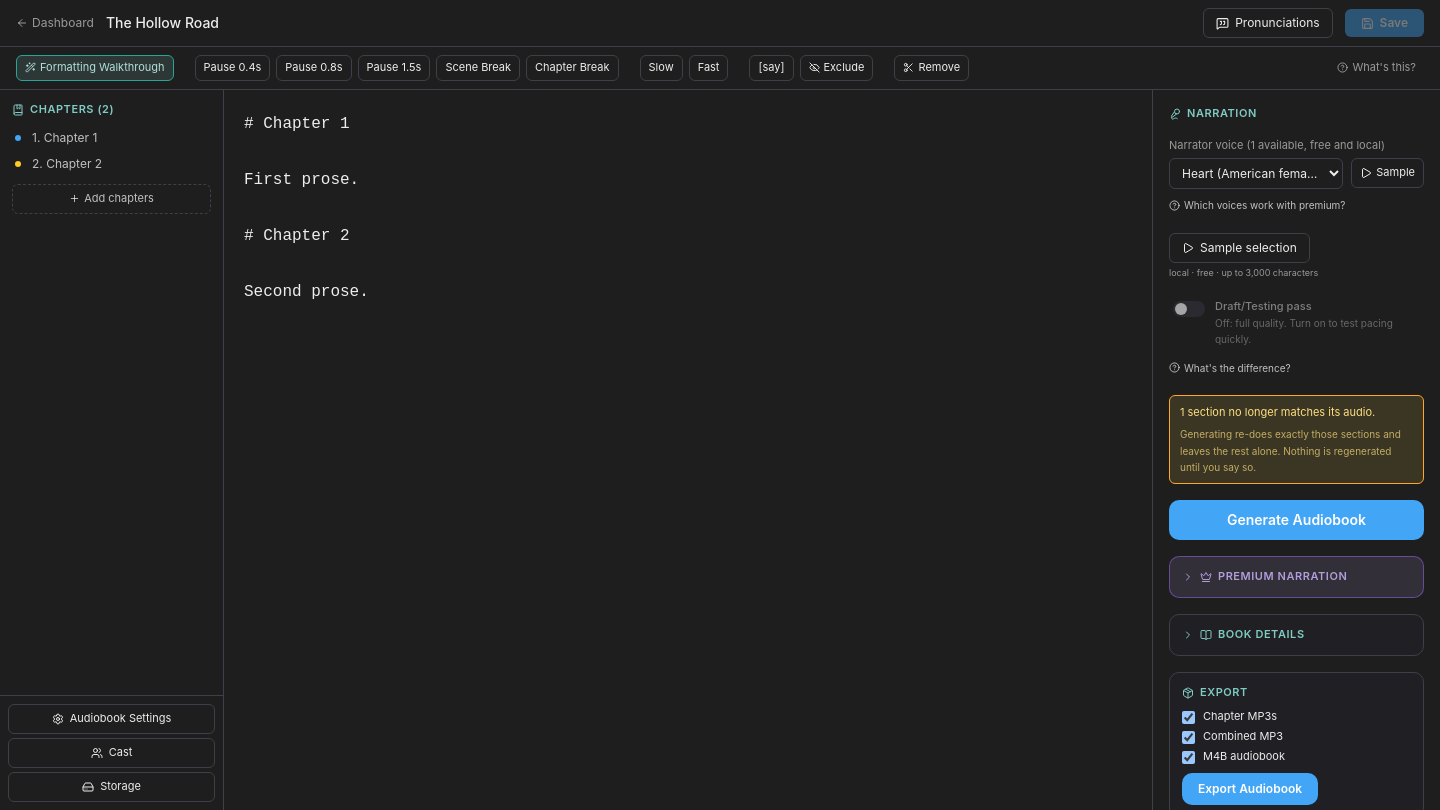
WorkspaceView › What's this opens the marker help with Hear it buttons
The width and height of the screenshot is (1440, 810).
Click the button "What's this?": (1377, 68) [1330, 56, 1424, 80]
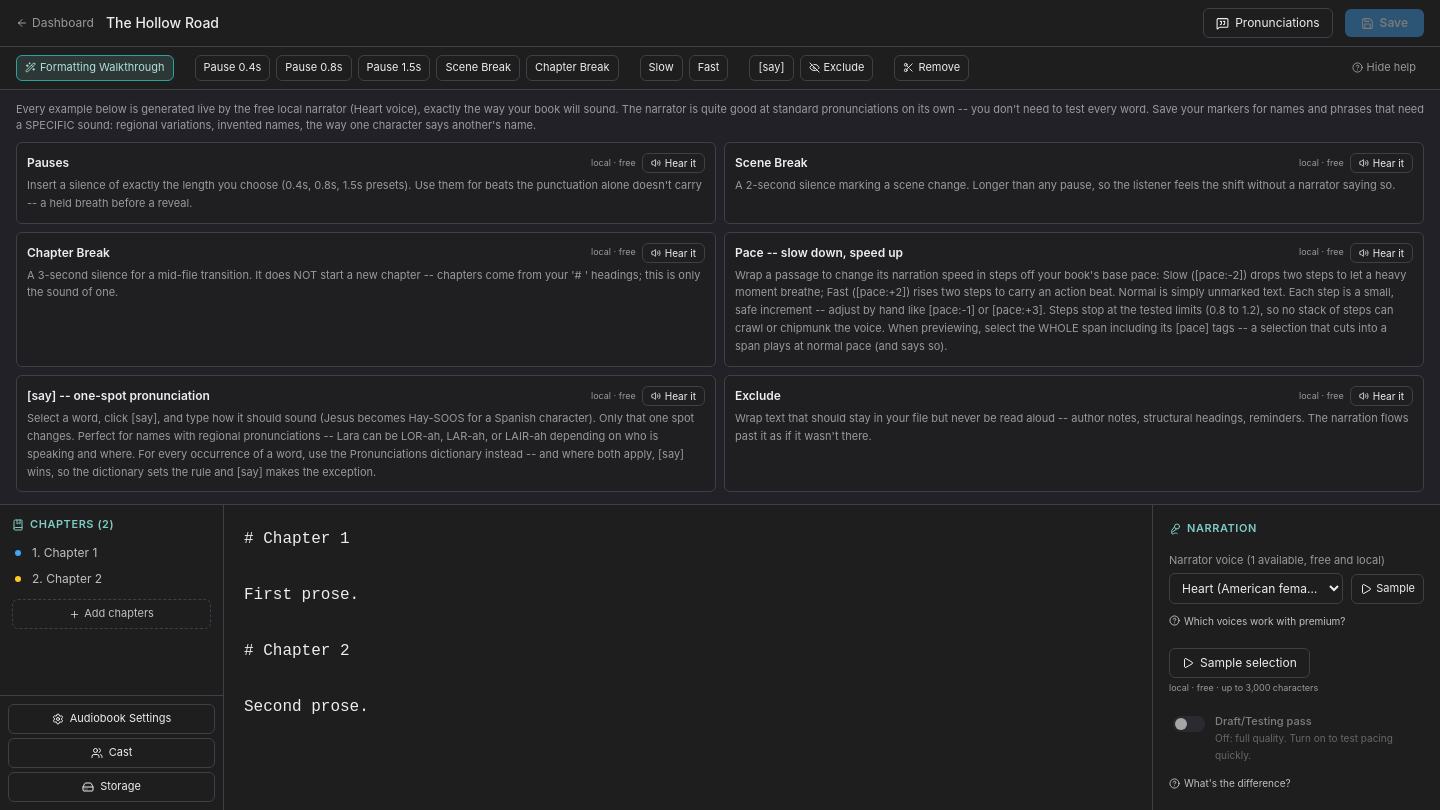
Now the text "generated live by the free local narrator" is shown, box [16, 102, 1424, 132]
Now the number of buttons "Hear it" is 6, box [642, 153, 705, 173]; [1350, 153, 1413, 173]; [642, 243, 705, 263]; [1350, 243, 1413, 263]; [642, 386, 705, 406]; [1350, 386, 1413, 406]
